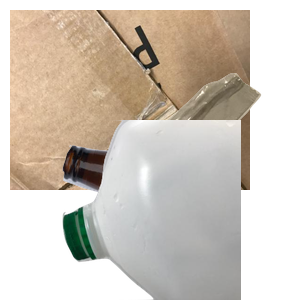cardboard: (10, 10, 250, 190)
glass: (60, 142, 300, 300)
plastic: (60, 120, 300, 300)
trash: (158, 71, 300, 227)
